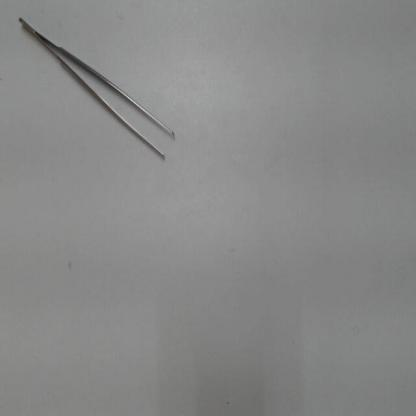Gillies Toothed Dissector: (18, 9, 188, 177)
